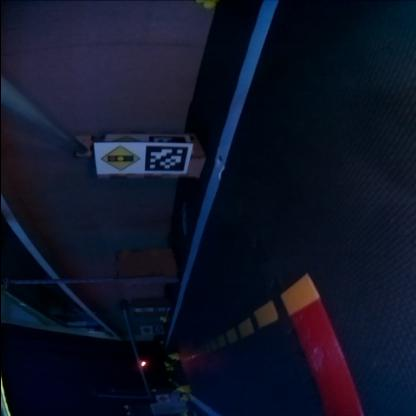QR code: (146, 146, 190, 174)
Signal sign: (98, 146, 140, 172)
